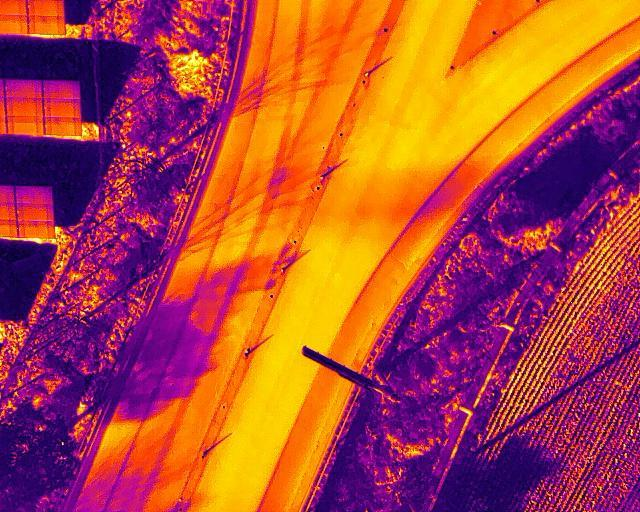No-Anomaly: (4, 115, 46, 135), (3, 96, 42, 116), (43, 98, 82, 118), (44, 117, 82, 137), (28, 15, 64, 35), (13, 185, 51, 203), (18, 220, 55, 238), (17, 202, 54, 220), (41, 80, 80, 97), (4, 80, 42, 96), (26, 0, 64, 16)
